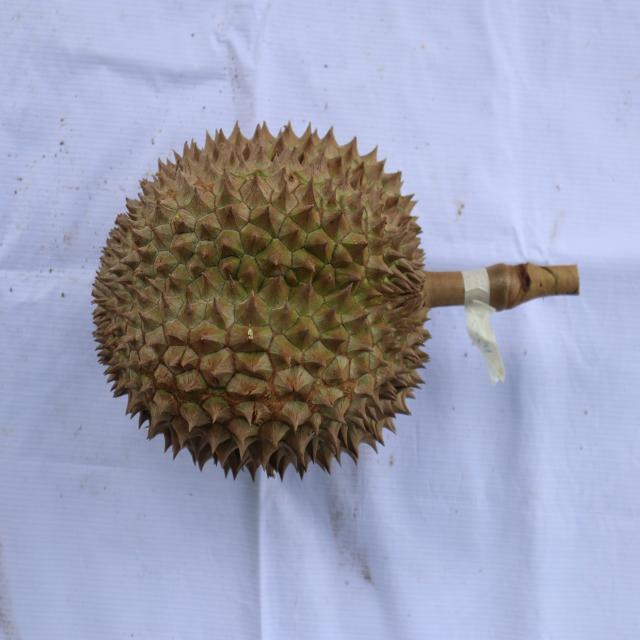mature: (92, 118, 435, 490)
